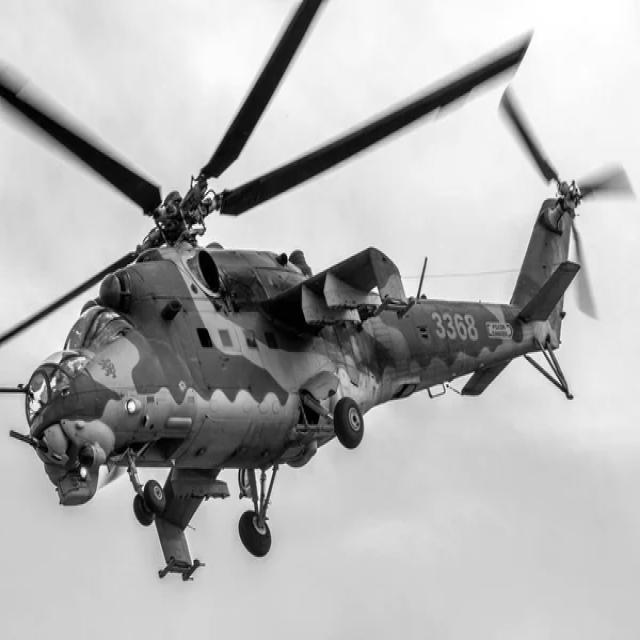Helicopter: (1, 0, 633, 580)
